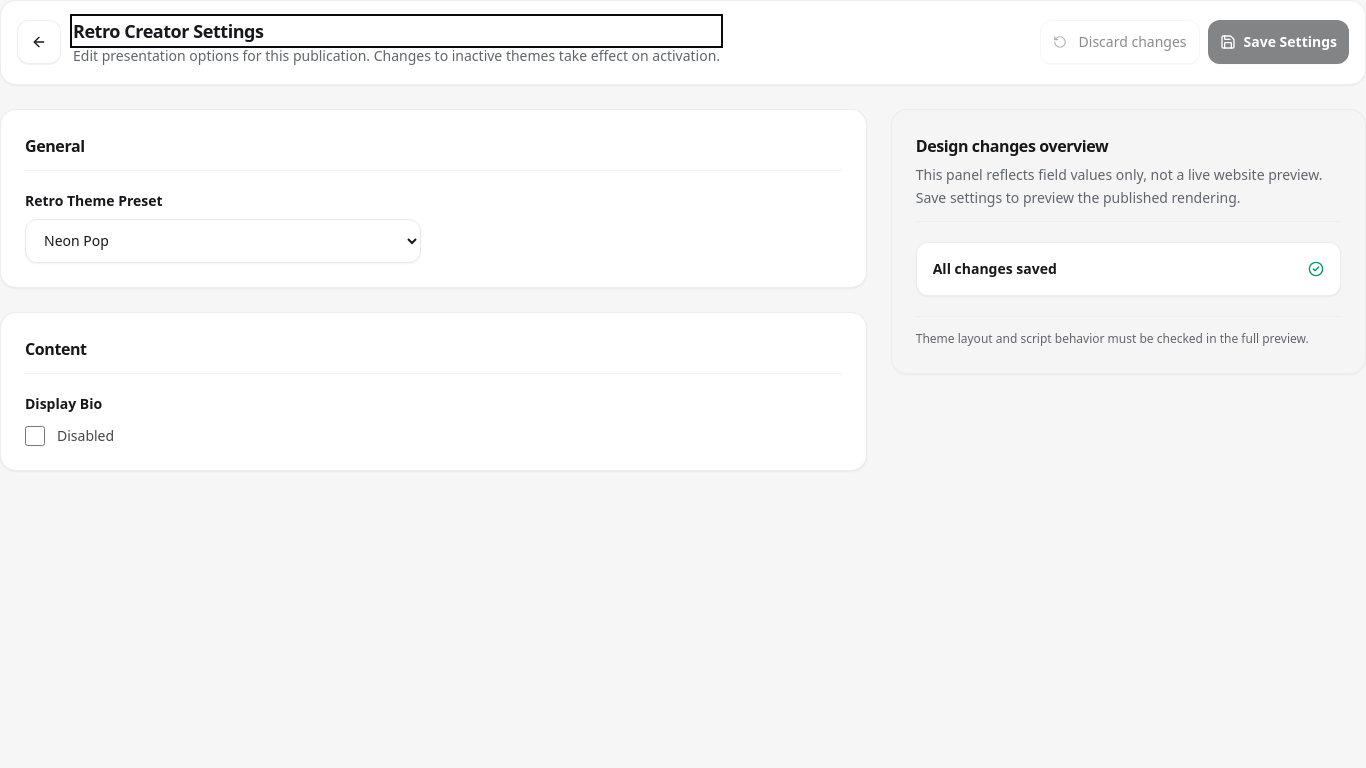
ThemeSettingsEditor › loads saved inactive values and saves edits without activating the theme
The image size is (1366, 768).
Expected: the element named "Content" shows "Display Bio", x1=25 y1=394 x2=102 y2=413
Expected: the checkbox labelled "Display Bio" is not checked, x1=25 y1=426 x2=45 y2=446
Select "Sunshine 70s" in the dropdown labelled "Retro Theme Preset" at {"x": 223, "y": 241}, box x1=25 y1=219 x2=421 y2=263
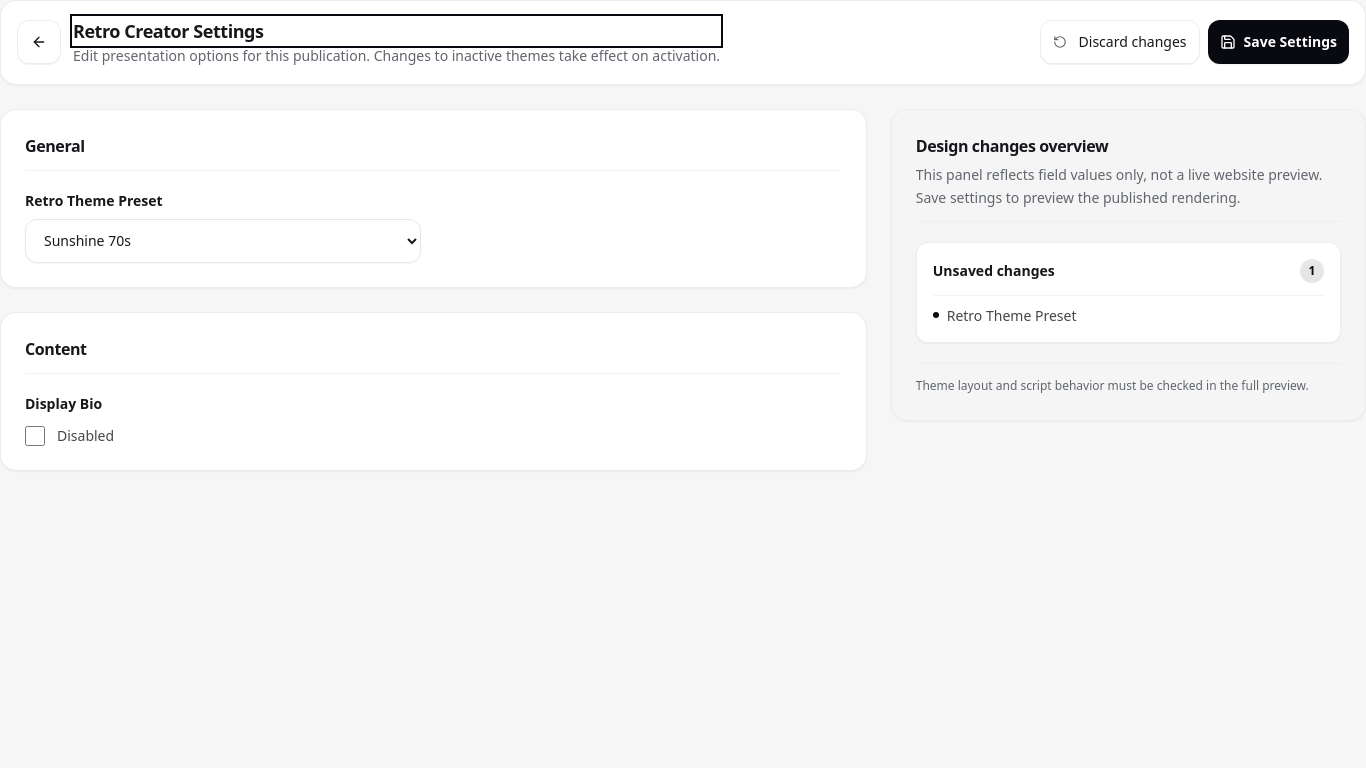
Result: the button "Save Settings" is enabled
Result: the text "Unsaved changes" is shown at x1=933 y1=261 x2=1055 y2=281
Click the button "Save Settings".
click(1278, 42)  # box x1=1208 y1=20 x2=1349 y2=64
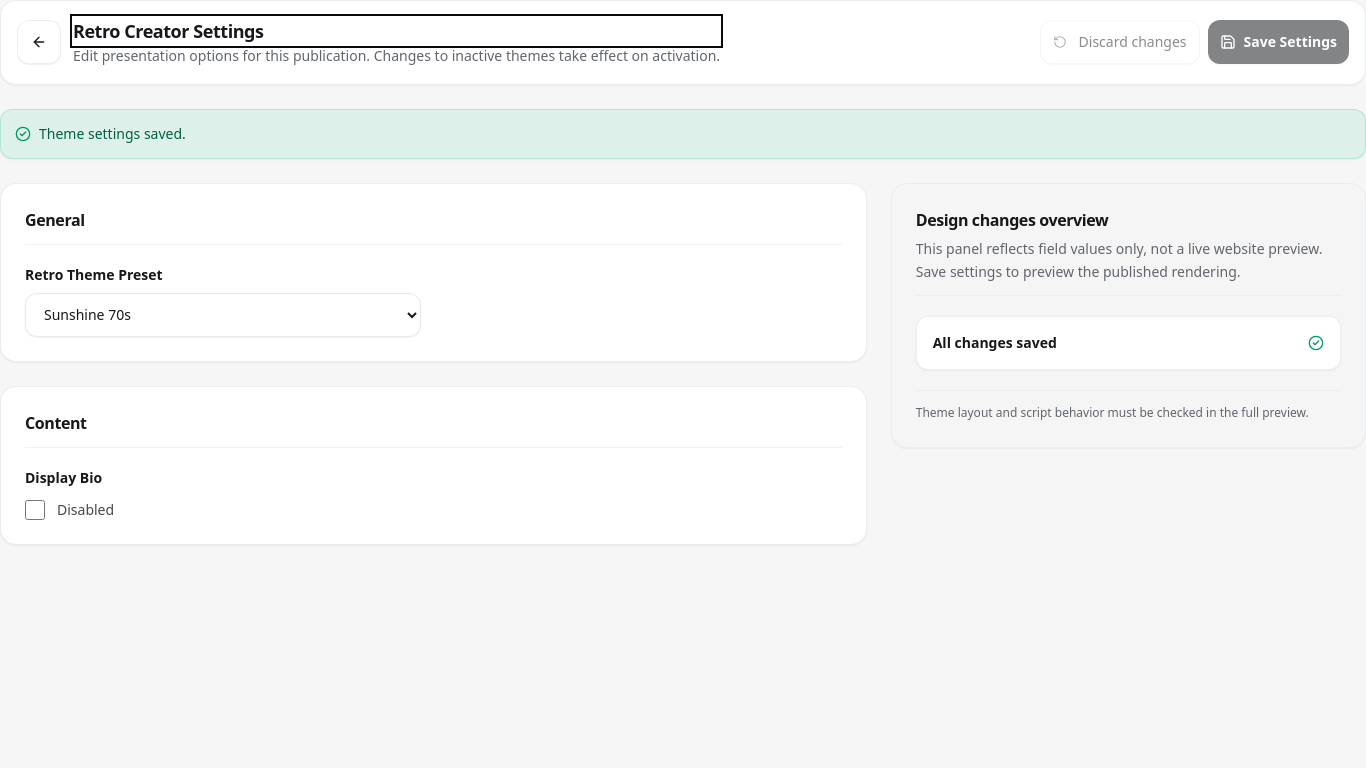
Result: the text "All changes saved" is shown at x1=933 y1=333 x2=1057 y2=353
Result: the button "Save Settings" is disabled at x1=1208 y1=20 x2=1349 y2=64
